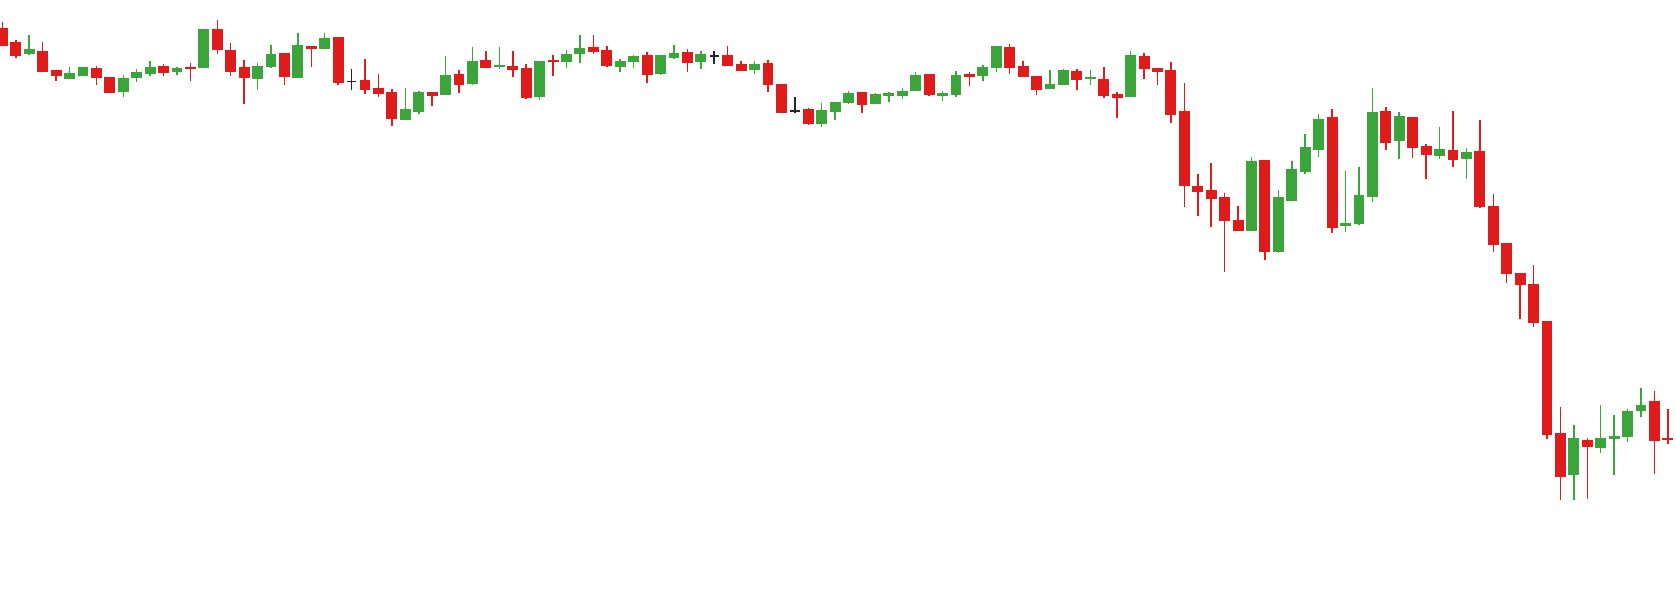sell: (1309, 85, 1393, 191)
